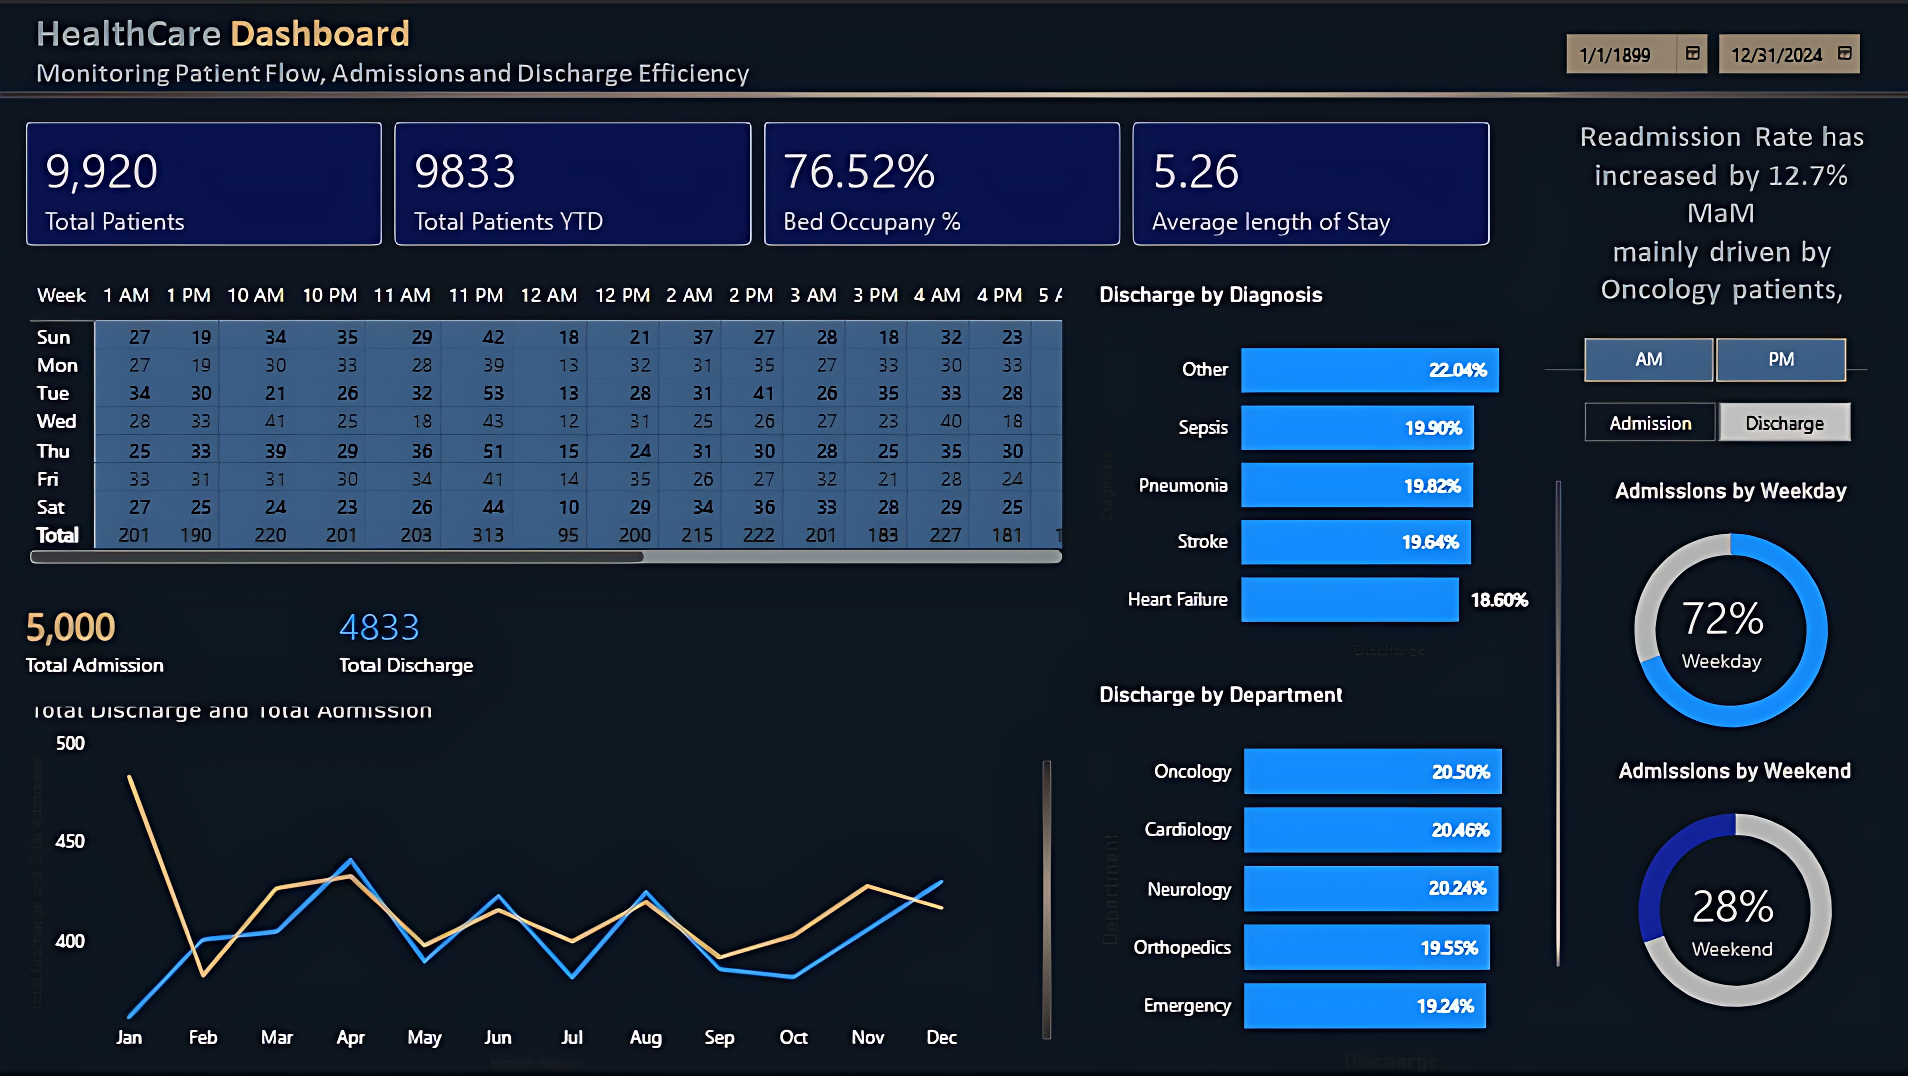

What the dashboard file says about the page in this screenshot:
{"tool":"powerbi","page":{"name":"Page 2","canvas":[1280,720],"ordinal":0},"visuals":[{"type":"cardVisual","fields":{"Data":["Healthcare_Dashboard_Dataset.Total Patients","Healthcare_Dashboard_Dataset.Total Patients YTD","Healthcare_Dashboard_Dataset.Bed Occupany %","Healthcare_Dashboard_Dataset.Average length of Stay"]},"box":[0,62.2,1017.8,117],"z":0},{"type":"donutChart","title":"Admissions by Weekend","fields":{"Category":["Datetable.Week_type"],"Y":["DAX Measures.Total Admission"]},"box":[1062.2,505.2,197,188],"z":1000},{"type":"donutChart","title":"Admissions by Weekday","fields":{"Category":["Datetable.Week_type"],"Y":["DAX Measures.Total Admission"]},"box":[1059.3,317,197,188.1],"z":2000},{"type":"slicer","fields":{"Values":["Change Measure.Change Measure"]},"box":[1034.5,259.6,227.5,40.1],"z":3000},{"type":"pivotTable","fields":{"Values":["DAX Measures.Total Discharge"],"Rows":["Datetable.Week"],"Columns":["Healthcare_Dashboard_Dataset.Time"]},"box":[14.8,179.3,700.7,200],"z":4000},{"type":"clusteredBarChart","fields":{"Y":["DAX Measures.Total Discharge"],"Category":["Healthcare_Dashboard_Dataset.Diagnosis"]},"box":[730.4,186.7,303.7,257.8],"z":5000},{"type":"clusteredBarChart","fields":{"Y":["DAX Measures.Total Discharge"],"Category":["Healthcare_Dashboard_Dataset.Department"]},"box":[730.4,453.3,303.7,266.7],"z":6000},{"type":"lineChart","title":"Total Discharge and Total Admission","fields":{"Y":["DAX Measures.Total Discharge","DAX Measures.Total Admission"],"Category":["Datetable.Month Name"]},"box":[14.8,462.2,640,257.8],"z":7000},{"type":"cardVisual","fields":{"Data":["Healthcare_Dashboard_Dataset.Total Admission","Healthcare_Dashboard_Dataset.Total Discharge"]},"box":[0,373.3,423.7,102.2],"z":8000},{"type":"slicer","fields":{"Values":["Healthcare_Dashboard_Dataset.Moment"]},"box":[1034.5,216.8,224.8,42.8],"z":9000},{"type":"cardVisual","fields":{"Data":["DAX Measures.Weekday"]},"box":[1096.3,360,117,115.6],"z":10000},{"type":"cardVisual","fields":{"Data":["DAX Measures.Weekend"]},"box":[1102.2,552.6,154.1,115.6],"z":10001},{"type":"slicer","fields":{"Values":["Datetable.Date"]},"box":[1034.5,9.4,222.2,41.5],"z":10002}]}

Visuals, with their boxes in screenshot pixels (x1, y1, x2, y2), scaled from the page's 1280x720 canvas onto the 1908x1078 screenshot:
cardVisual - Healthcare_Dashboard_Dataset.Total Patients x Healthcare_Dashboard_Dataset.Total Patients YTD: l=0, t=93, r=1517, b=268
"Admissions by Weekend" donutChart: l=1583, t=756, r=1877, b=1038
"Admissions by Weekday" donutChart: l=1579, t=475, r=1873, b=756
slicer - Change Measure.Change Measure: l=1542, t=389, r=1881, b=449
pivotTable - DAX Measures.Total Discharge x Datetable.Week: l=22, t=268, r=1067, b=568
clusteredBarChart - DAX Measures.Total Discharge x Healthcare_Dashboard_Dataset.Diagnosis: l=1089, t=280, r=1541, b=666
clusteredBarChart - DAX Measures.Total Discharge x Healthcare_Dashboard_Dataset.Department: l=1089, t=679, r=1541, b=1077
"Total Discharge and Total Admission" lineChart: l=22, t=692, r=976, b=1077
cardVisual - Healthcare_Dashboard_Dataset.Total Admission x Healthcare_Dashboard_Dataset.Total Discharge: l=0, t=559, r=632, b=712
slicer - Healthcare_Dashboard_Dataset.Moment: l=1542, t=325, r=1877, b=389
cardVisual - DAX Measures.Weekday: l=1634, t=539, r=1809, b=712
cardVisual - DAX Measures.Weekend: l=1643, t=827, r=1873, b=1000
slicer - Datetable.Date: l=1542, t=14, r=1873, b=76
